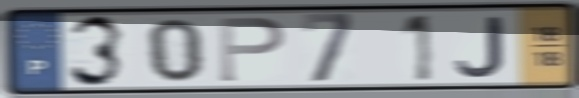0: (143, 17, 207, 84)
1: (400, 12, 435, 83)
3: (64, 13, 136, 89)
7: (299, 11, 356, 87)
J: (453, 15, 508, 79)
P: (216, 15, 288, 85)
